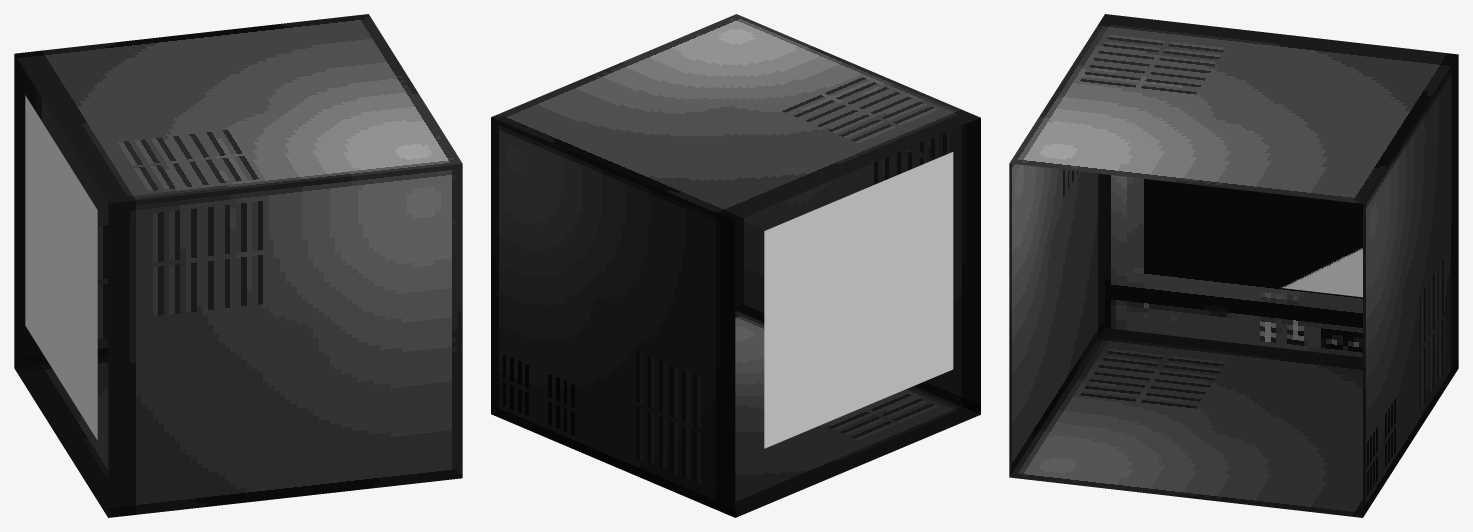
The model's file is primary_190.glb.
3 views of the same model, side by side, from view 1: azimuth 30°, elevation 25°; view 2: azimuth 150°, elevation 25°; view 3: azimuth 270°, elevation 25° (orthographic). The views are drawn at different scales.
Parts seen in each view (by area): view 1: Object; view 2: Object; view 3: Object.
Part boxes in pixels (x1,y1,x2,y2): Object: (14, 14, 462, 517); Object: (491, 14, 980, 517); Object: (1009, 14, 1458, 517).
Bounding box in the file's own units: 0.5661 × 0.4367 × 0.566.
Materials: 7 (7 with a texture image).
